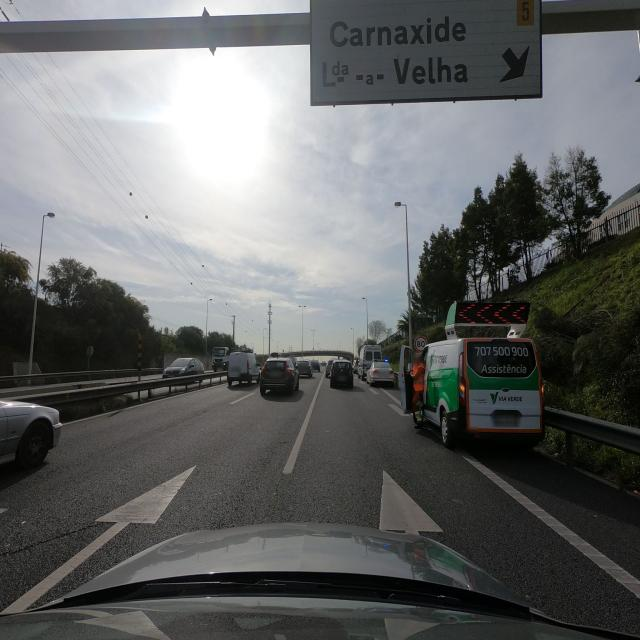car: (0, 387, 62, 473), (259, 356, 300, 397), (226, 351, 261, 387), (358, 344, 384, 380), (161, 357, 205, 378), (366, 359, 396, 388), (329, 360, 354, 390), (296, 359, 313, 378), (325, 360, 336, 378), (310, 362, 320, 372)
